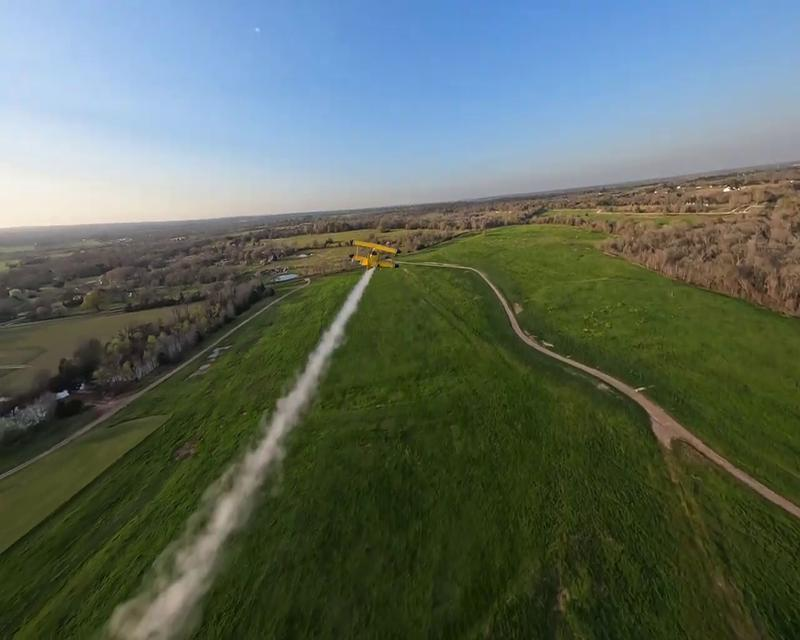UAV: (350, 238, 400, 272)
